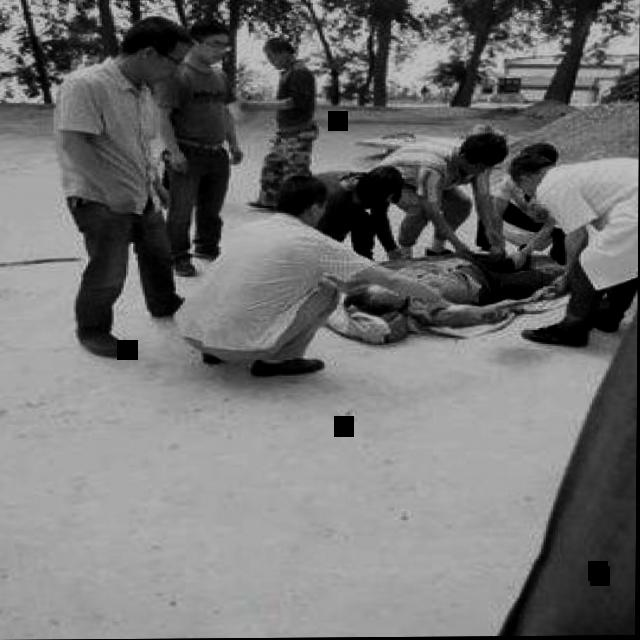Fall-Detected: (323, 231, 570, 346)
